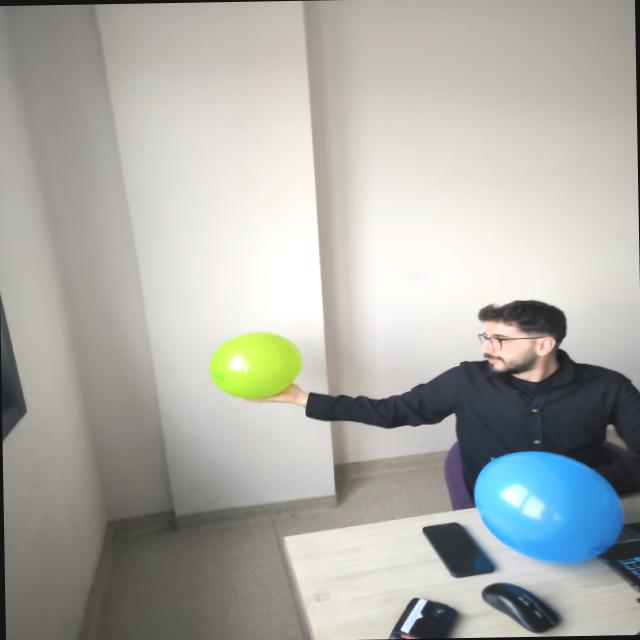balloon: (474, 451, 622, 563), (209, 332, 301, 398), (532, 496, 533, 496)
